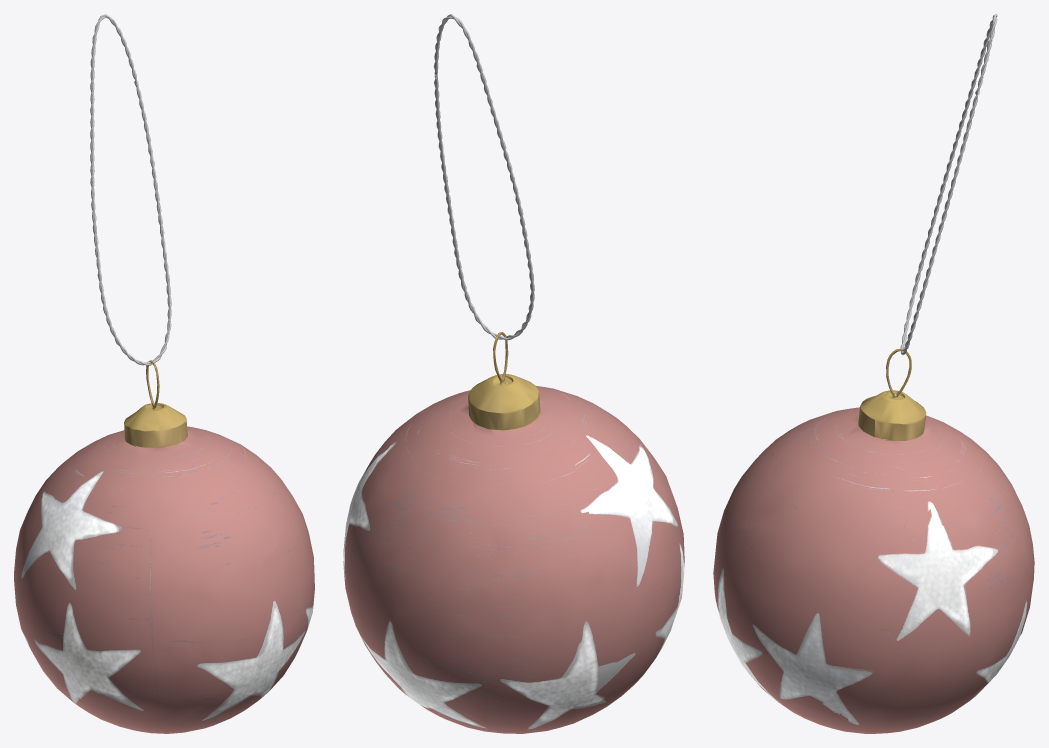
3 views of the same model, side by side, from view 1: azimuth 30°, elevation 25°; view 2: azimuth 150°, elevation 25°; view 3: azimuth 270°, elevation 25° (orthographic). The views are drawn at different scales.
Parts seen in each view (by area): view 1: Mesh1.0, GN Instance; view 2: Mesh1.0, GN Instance; view 3: Mesh1.0, GN Instance.
Boxes of the visible parts, left/top/right/bottom form: Mesh1.0: left=14, top=360, right=314, bottom=733; GN Instance: left=90, top=14, right=171, bottom=365; Mesh1.0: left=343, top=332, right=684, bottom=733; GN Instance: left=433, top=14, right=534, bottom=340; Mesh1.0: left=713, top=349, right=1034, bottom=733; GN Instance: left=900, top=14, right=997, bottom=355.
Size of the model in its own units: 0.0799 by 0.1944 by 0.0803.
2 materials, 1 textured.
